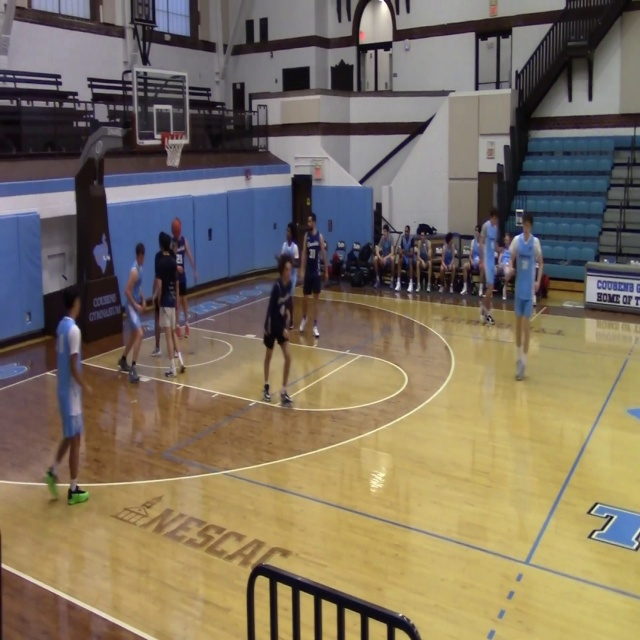Basketball: (171, 218, 181, 238)
